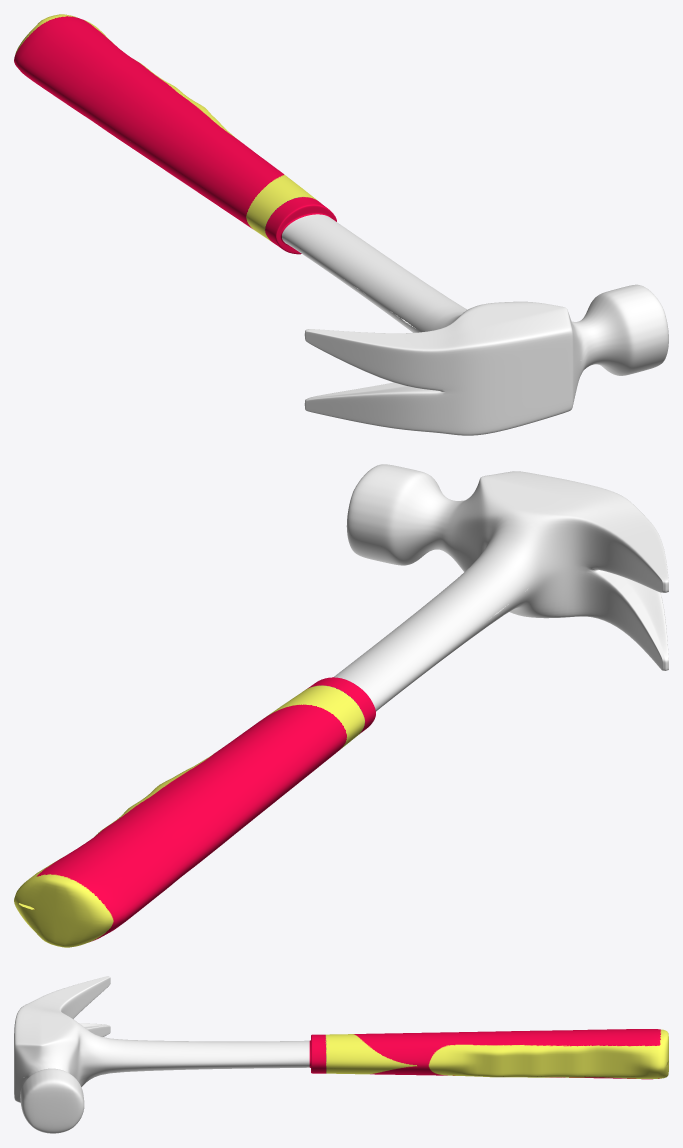
File: PALU.fbx
3 views of the same model, one above another, from view 1: azimuth 30°, elevation 25°; view 2: azimuth 150°, elevation 25°; view 3: azimuth 270°, elevation 25° (orthographic). The views are drawn at different scales.
Visible parts, largest first — view 1: Cube.002; view 2: Cube.002; view 3: Cube.002.
Part boxes in pixels (x1=…): Cube.002: x1=14, y1=14, x2=668, y2=435; Cube.002: x1=14, y1=464, x2=668, y2=947; Cube.002: x1=14, y1=976, x2=668, y2=1133.
Size of the model in its own units: 87.33 by 24.96 by 229.
1 material, 1 textured.
